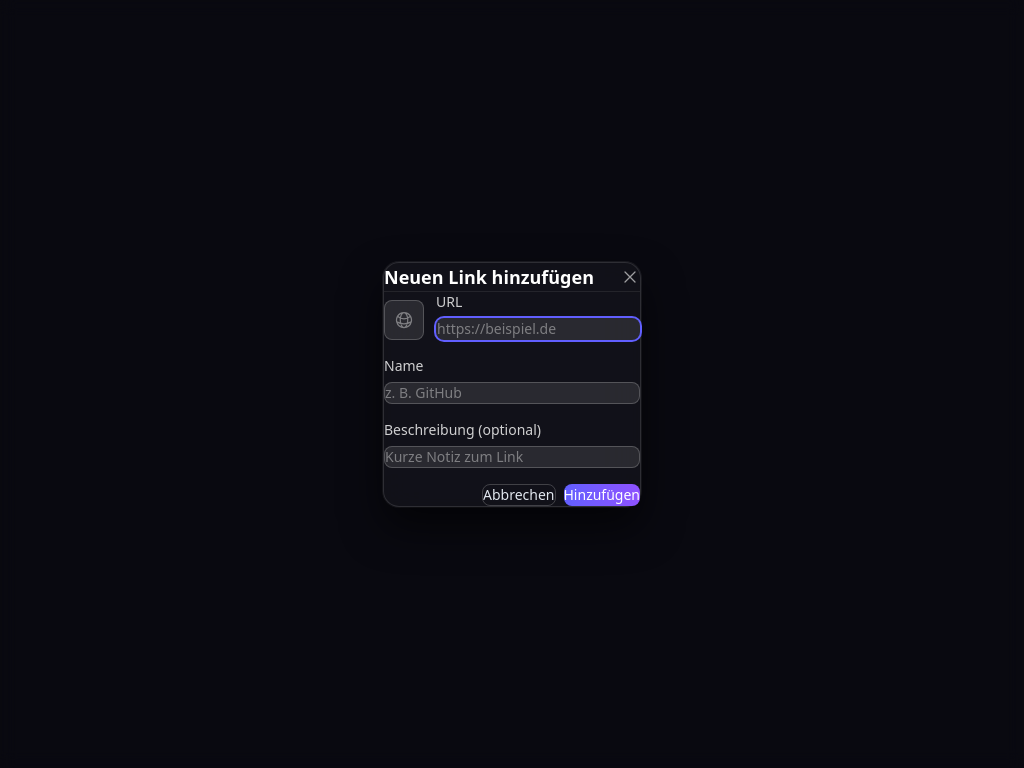
Scenario: AddLinkModal › zeigt Fehler wenn URL leer ist
Click the button "Hinzufügen" at {"x": 602, "y": 494}, box [564,484,640,506]
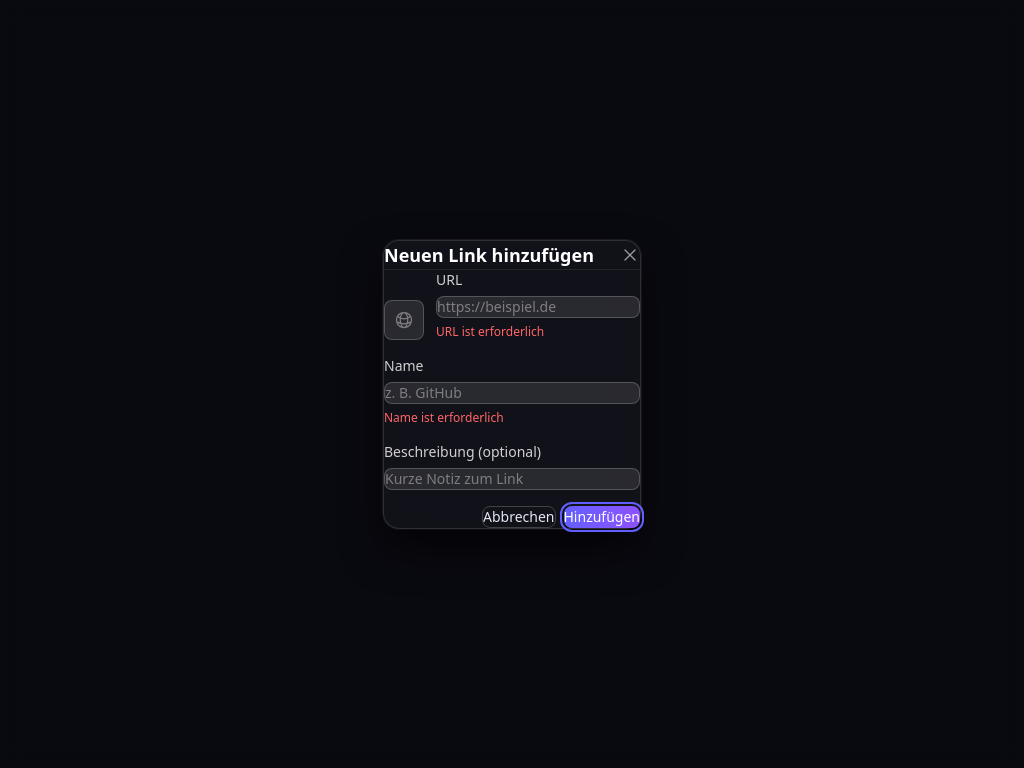
Check: the text "URL ist erforderlich" is shown, box [436,322,544,340]
